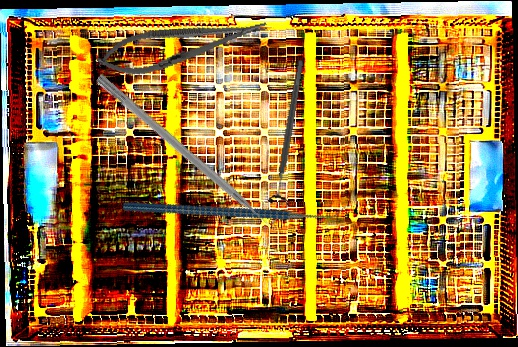Chopper: (121, 126, 351, 289)
Fixation Ring: (266, 58, 313, 207)
Needle Holder: (93, 6, 272, 84)
Pusher: (93, 73, 281, 238)
